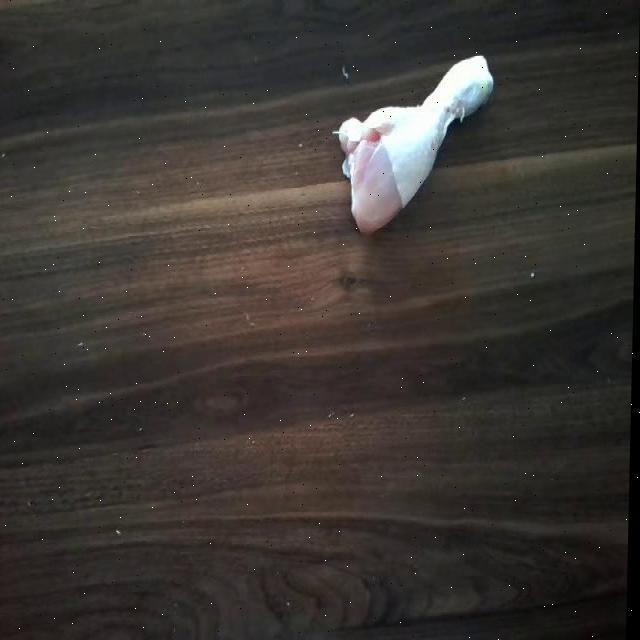leg: (332, 48, 492, 236)
